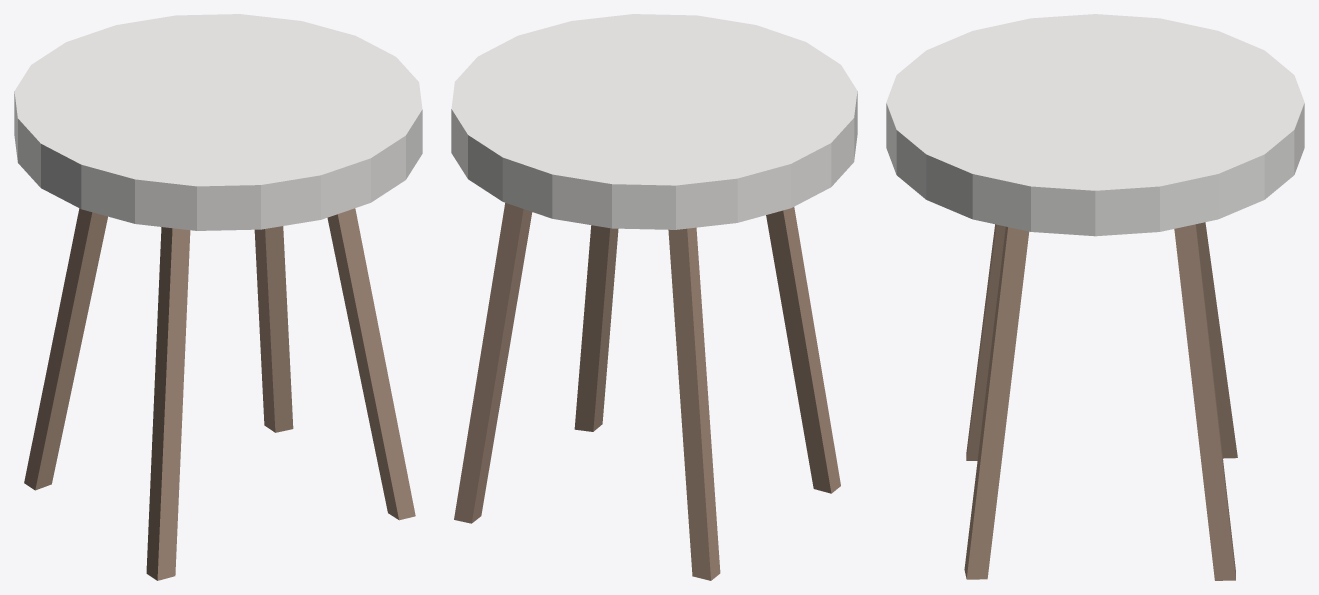
The model's file is Table_18.fbx.
The picture shows the model from 3 angles, left to right: view 1: azimuth 30°, elevation 25°; view 2: azimuth 150°, elevation 25°; view 3: azimuth 270°, elevation 25°; orthographic projection. The views are drawn at different scales.
Parts seen in each view (by area): view 1: Table_18; view 2: Table_18; view 3: Table_18.
Boxes of the visible parts, box(x1,y1,x2,y2) form: Table_18: box(14, 14, 422, 580); Table_18: box(451, 14, 857, 580); Table_18: box(886, 14, 1304, 580).
Size of the model in its own units: 72.3 by 72.3 by 78.59.
